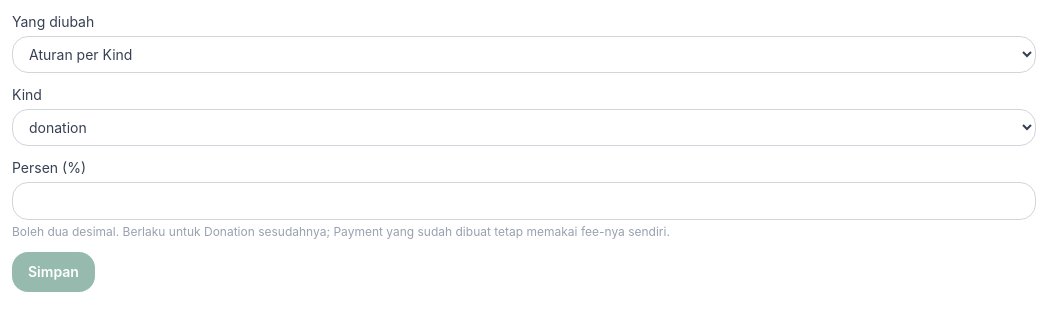
Test case: AdminPlatformFeeForm › keeps Simpan disabled until the form is complete and well formed
The width and height of the screenshot is (1048, 309).
Expected: the button "Simpan" is disabled, left=12, top=252, right=95, bottom=292
Type "2,555" into the field labelled "Persen" at (524,201), box left=12, top=182, right=1036, bottom=220
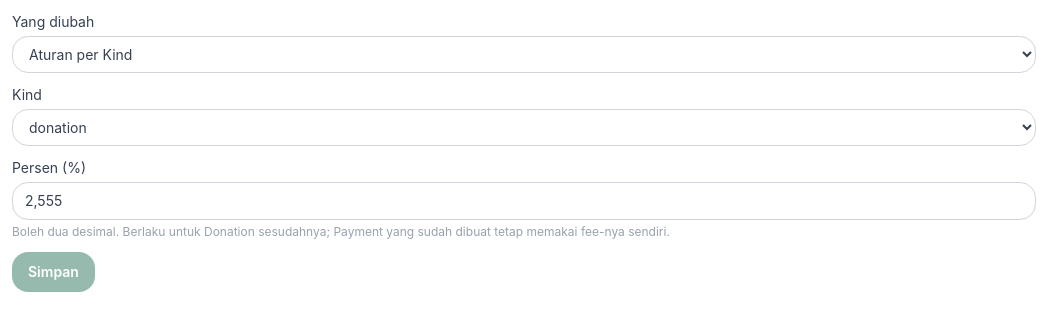
Expected: the button "Simpan" is disabled, left=12, top=252, right=95, bottom=292
Replace the text in the field labelled "Persen" with "5" at (524,201), box left=12, top=182, right=1036, bottom=220
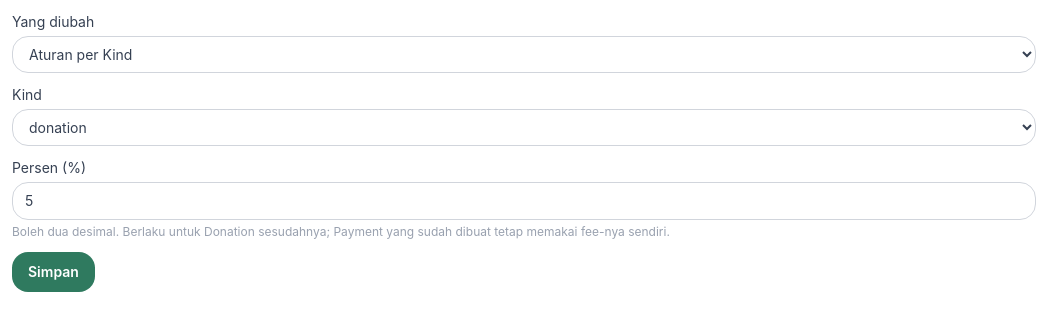
Now the button "Simpan" is enabled, box left=12, top=252, right=95, bottom=292
